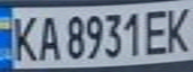1: (121, 8, 145, 57)
3: (103, 10, 127, 60)
8: (60, 11, 84, 61)
9: (81, 11, 106, 61)
A: (33, 11, 63, 62)
E: (142, 6, 172, 56)
K: (6, 11, 42, 63), (160, 3, 193, 55)
